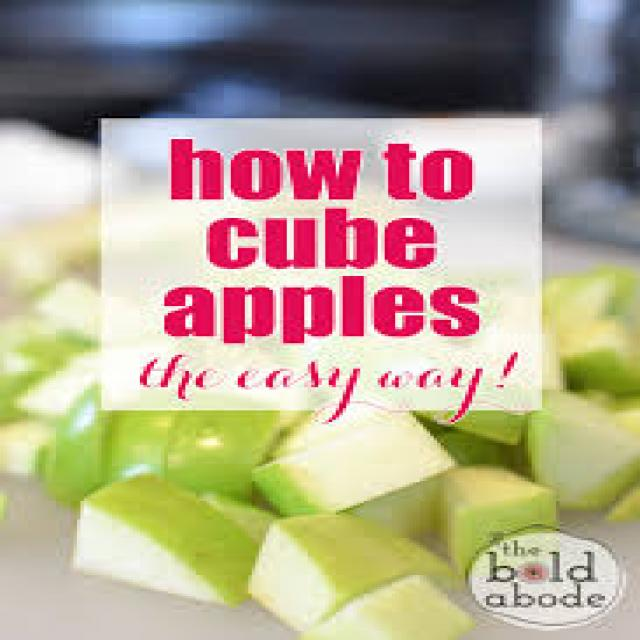Apple: (232, 409, 460, 510), (65, 484, 246, 608), (245, 517, 453, 611), (517, 388, 640, 504), (434, 453, 554, 546), (302, 583, 474, 639), (54, 390, 121, 484), (108, 410, 175, 486)
